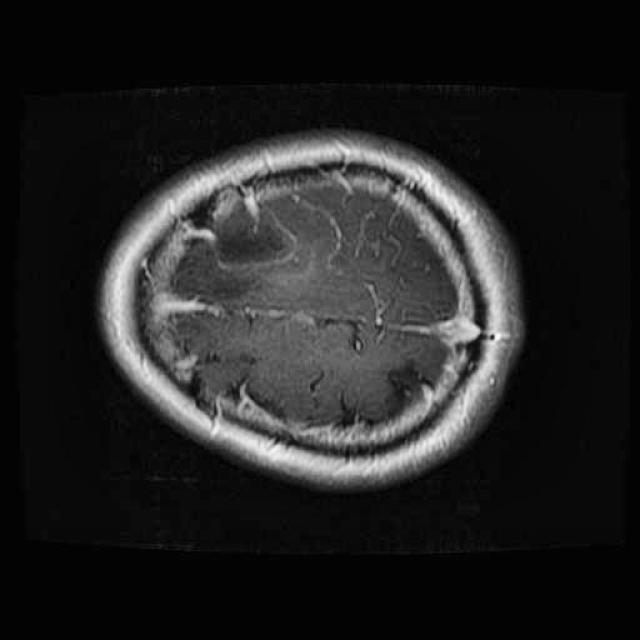Non-Tumor: (201, 189, 305, 272)
